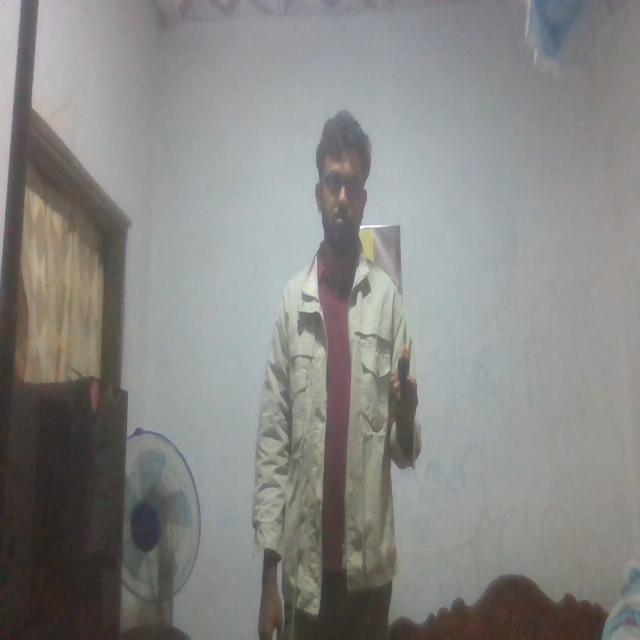Gun_Holder: (392, 335, 422, 415)
Jacket_Wearer: (249, 254, 428, 595)
Person: (264, 110, 429, 640)
